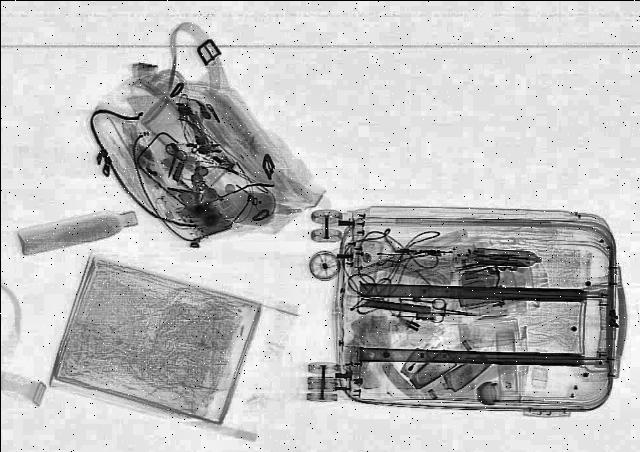Scissors: (422, 298, 482, 326)
